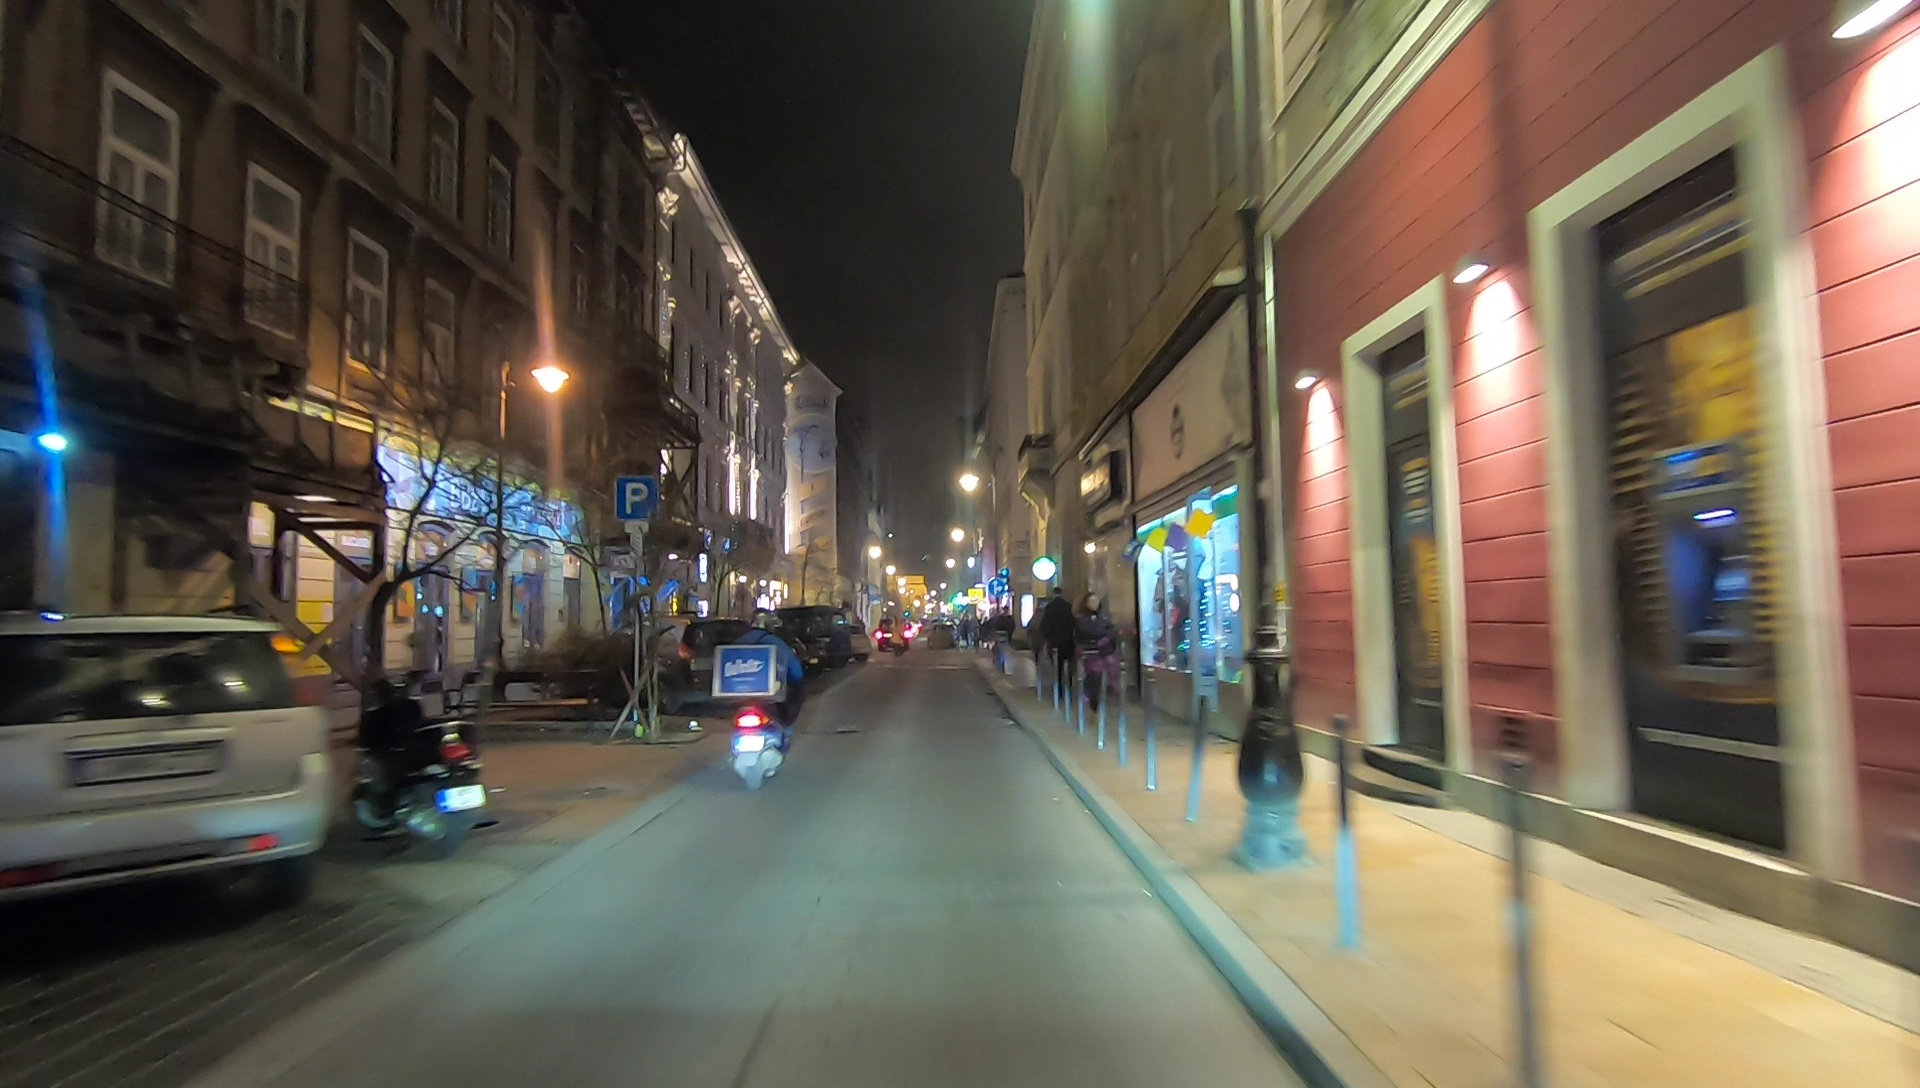person: (1047, 591, 1075, 693), (1086, 597, 1112, 704)
